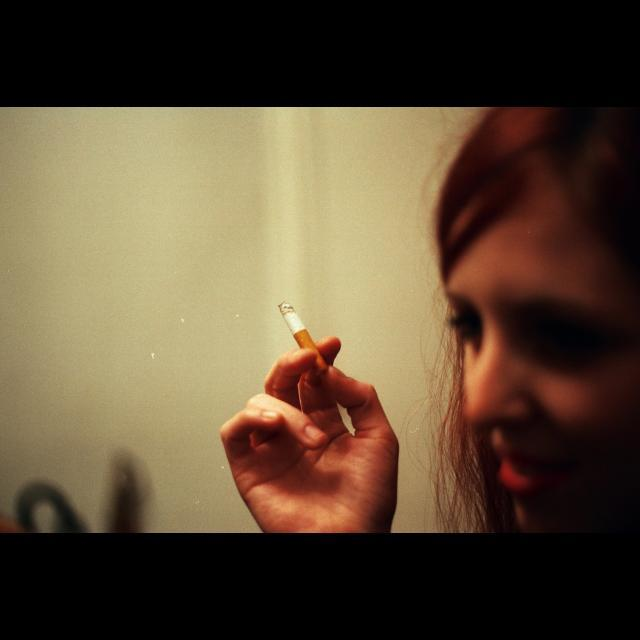rokok: (272, 296, 332, 364)
